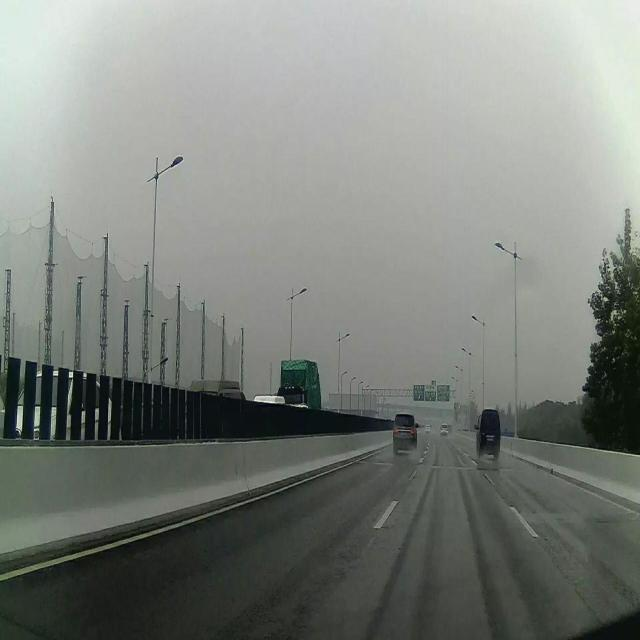car: (474, 408, 501, 460), (393, 412, 417, 455), (440, 422, 448, 433)
